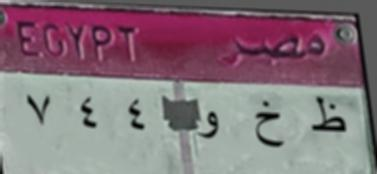4: (76, 90, 104, 138), (125, 94, 152, 140)
7: (24, 91, 57, 132)
Thaa: (308, 92, 354, 140)
khaa: (250, 96, 288, 156)
waw: (198, 104, 223, 144)
